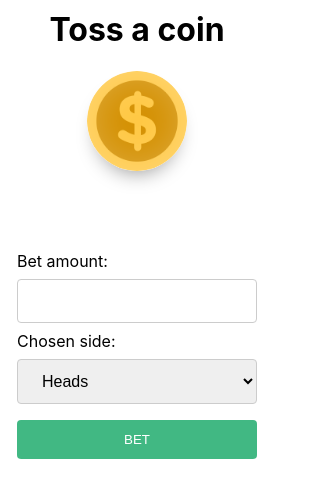
Test: App › will render 'HEADS' if game result is heads
The width and height of the screenshot is (320, 477).
Type "100" into the number field labelled "Bet amount:" at (137, 301), box left=17, top=279, right=257, bottom=323
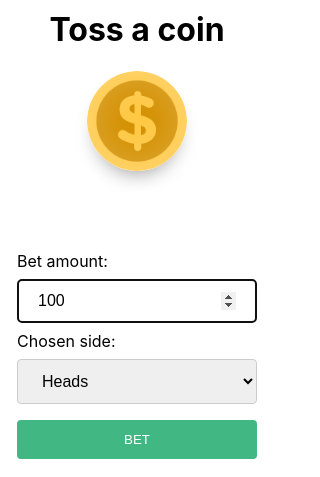
Select "Heads" in the dropdown labelled "Chosen side:" at (137, 381), box left=17, top=359, right=257, bottom=404
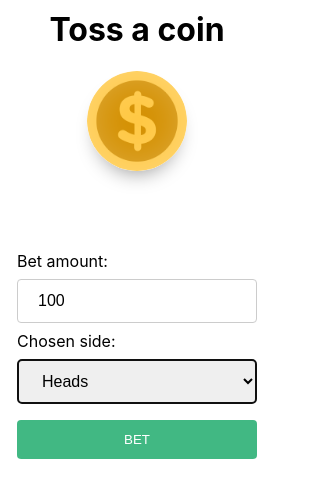
Click the button "BET" at (137, 439), box left=17, top=420, right=257, bottom=459
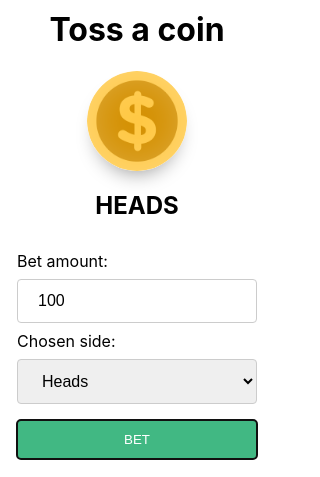
Result: the heading with test id "game-result" reads "heads" at left=95, top=191, right=179, bottom=220
